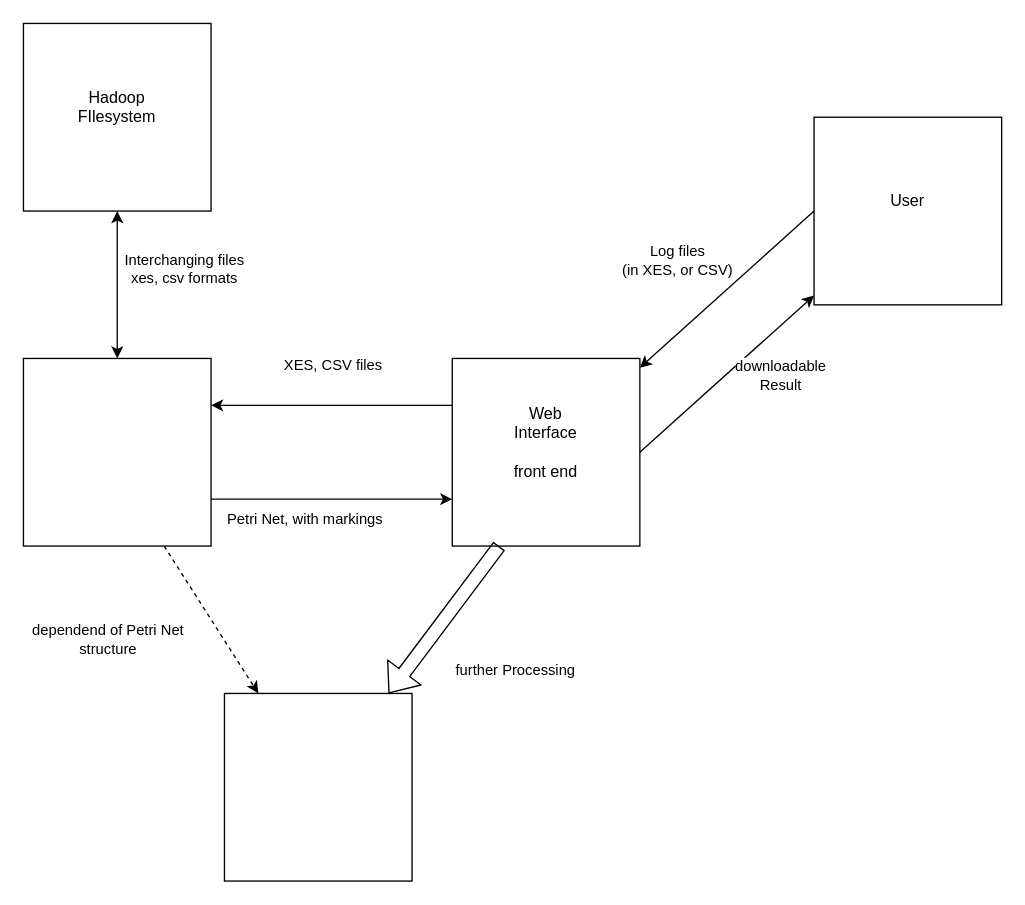
Some shapes in this 1025 by 905 pixel diagram are drawn without their labels. The shapes that lost their labels are listed below. From the top down, each one's centre as x and y in pixels, then its label:
At (x=116, y=451): "Backend System".
At (x=317, y=786): "PM4py".
